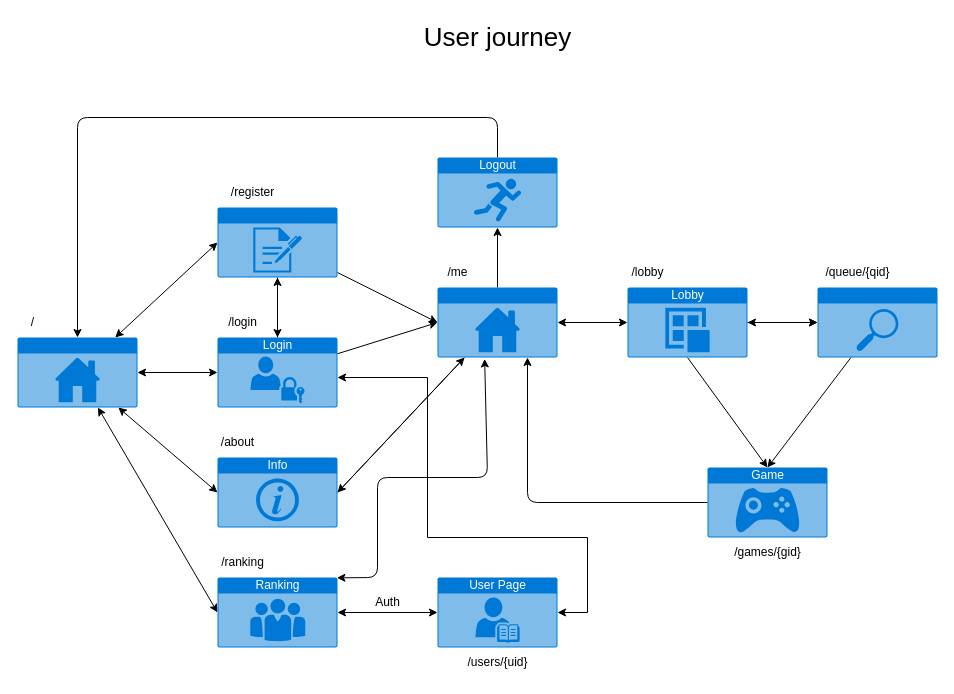
This 954x694 diagram has some shape labels left out. Each missing label, with the box of its shape:
Home: (17, 337, 137, 407)
Register: (217, 207, 337, 277)
Searching for Game: (817, 287, 937, 357)
User Home: (437, 287, 557, 357)
